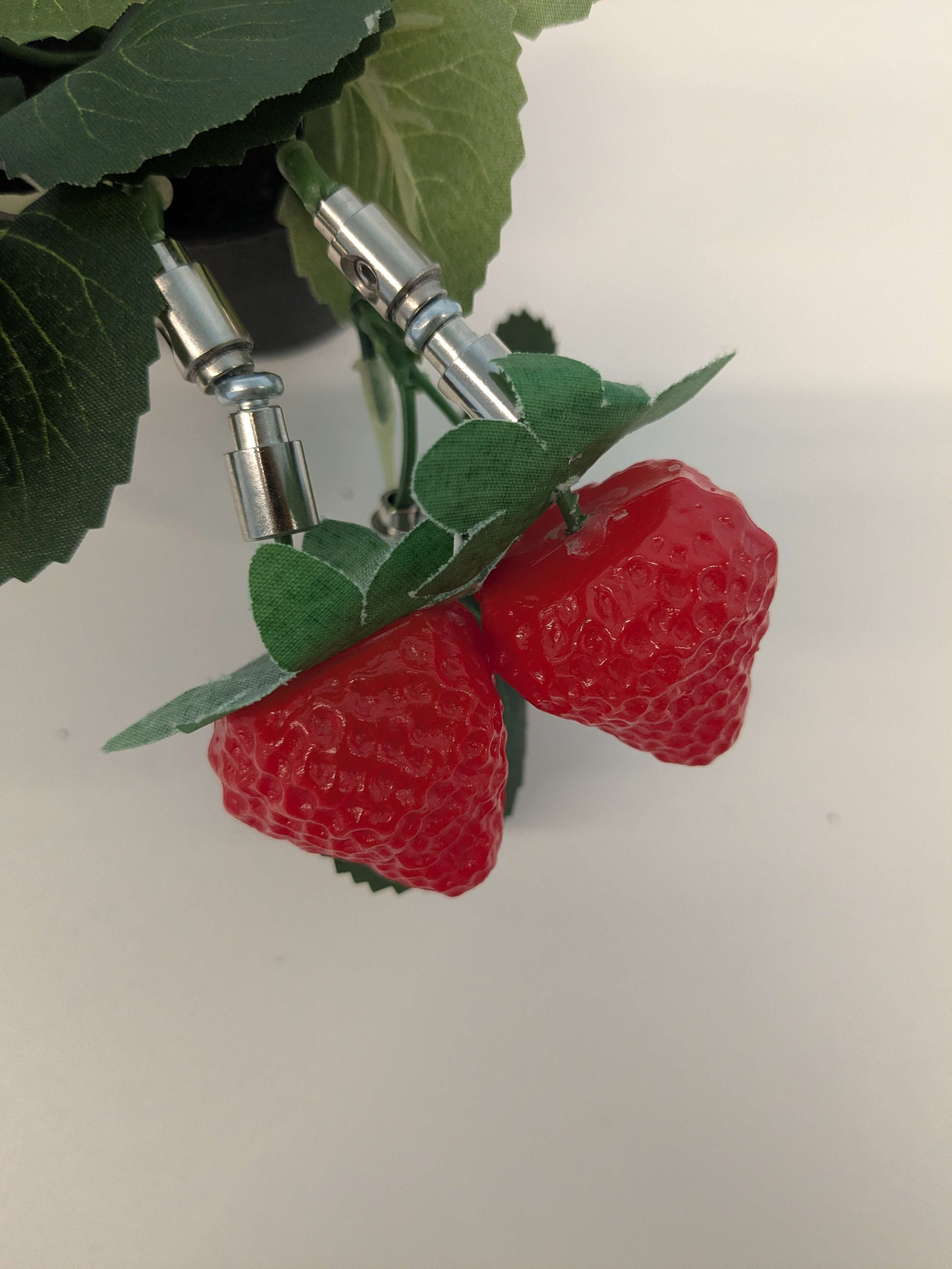Strawberry: (177, 539, 528, 926), (488, 444, 806, 780)
